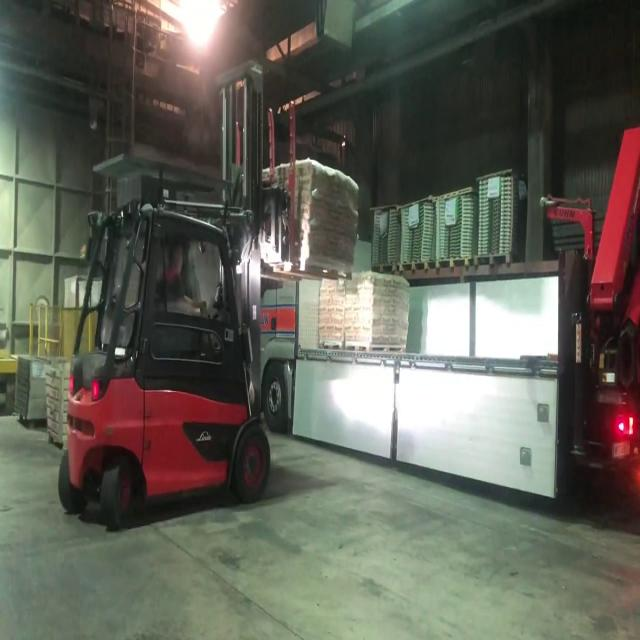Chariot elevateur: (51, 188, 285, 539)
